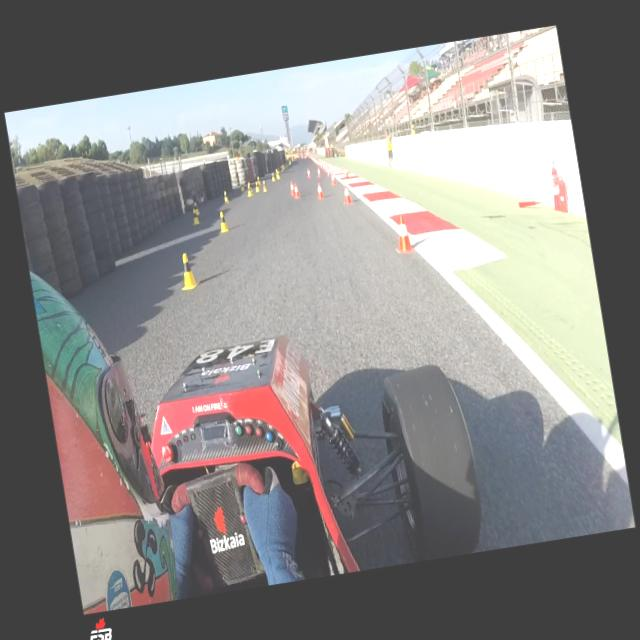orange_cone: (392, 214, 414, 254), (341, 185, 352, 205), (315, 182, 325, 200), (288, 180, 295, 196), (293, 183, 300, 199), (329, 172, 336, 185), (316, 166, 322, 178), (306, 168, 312, 178), (344, 167, 349, 178), (326, 167, 331, 177)
yellow_cone: (177, 252, 200, 290), (218, 211, 228, 233), (191, 207, 200, 225), (222, 190, 230, 204), (193, 200, 200, 216), (246, 184, 253, 197), (254, 180, 260, 192), (262, 180, 268, 192), (239, 181, 245, 191), (248, 182, 253, 192), (271, 172, 276, 182), (257, 176, 261, 185), (277, 172, 281, 180), (276, 170, 278, 177)
